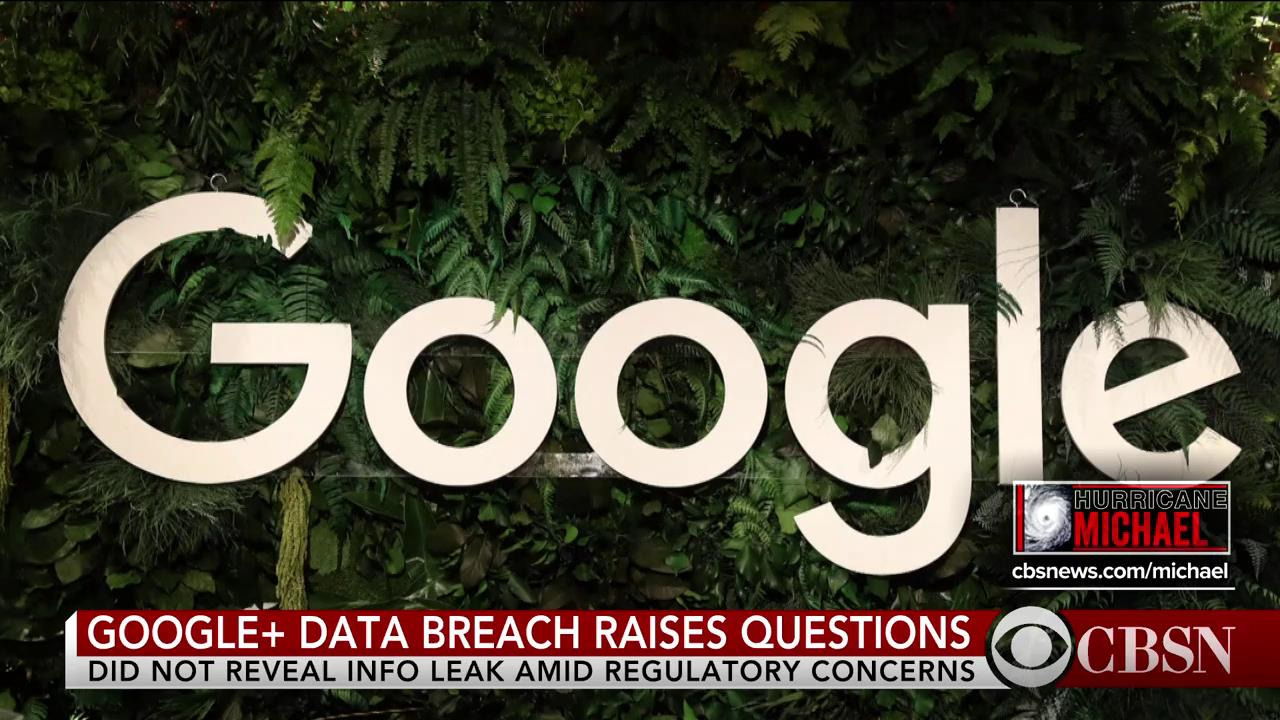CBSN: (1078, 623, 1236, 679)
DID NOT REVEAL INFO LEAK AMID REGULATORY CONCERNS: (87, 657, 977, 686)
GOOGLE+ DATA BREACH RAISES QUESTIONS: (86, 612, 973, 652)
Google: (55, 190, 1246, 579)
HURRICANE: (1072, 486, 1226, 510)
MICHAEL: (1075, 508, 1208, 547)
cbsnews.com/michael: (1011, 562, 1230, 582)
